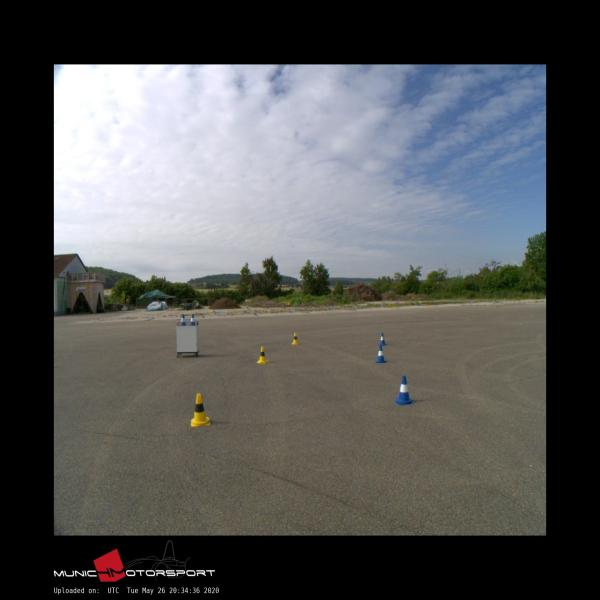blue_cone: (394, 375, 412, 404), (375, 346, 386, 363), (379, 333, 386, 345), (180, 314, 187, 326), (190, 314, 196, 325)
yellow_cone: (190, 393, 210, 426), (256, 346, 269, 363), (291, 332, 298, 344)
